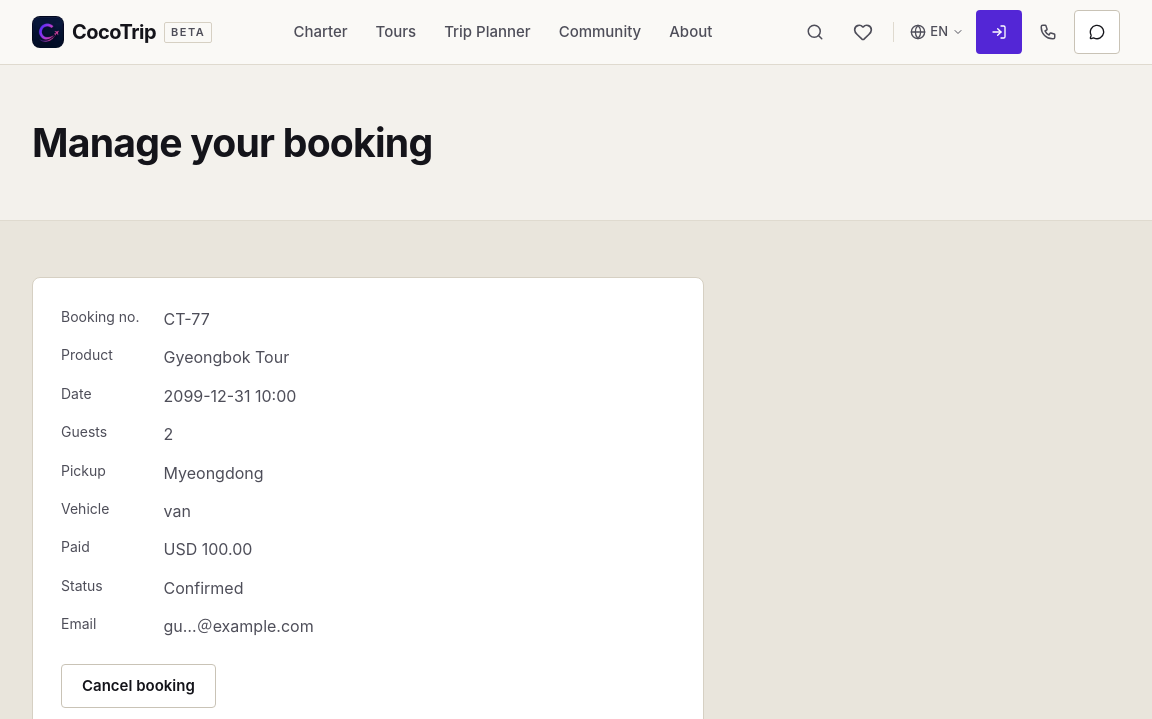
Test: /booking/manage › cancel 5xx → error screen; "check again" retries the lookup only (no second cancel)
Click the button "Cancel booking".
click(138, 686)  # box [61,664,216,708]
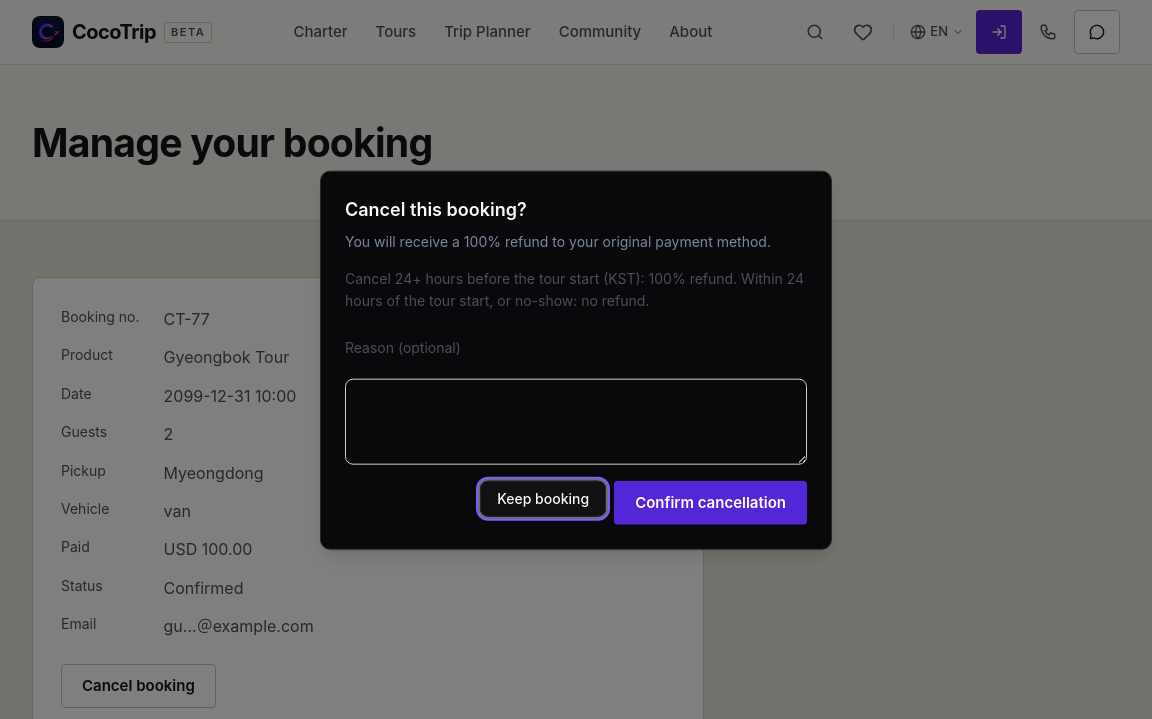
Click the button "Confirm cancellation".
click(711, 502)  # box [614,480,807,524]
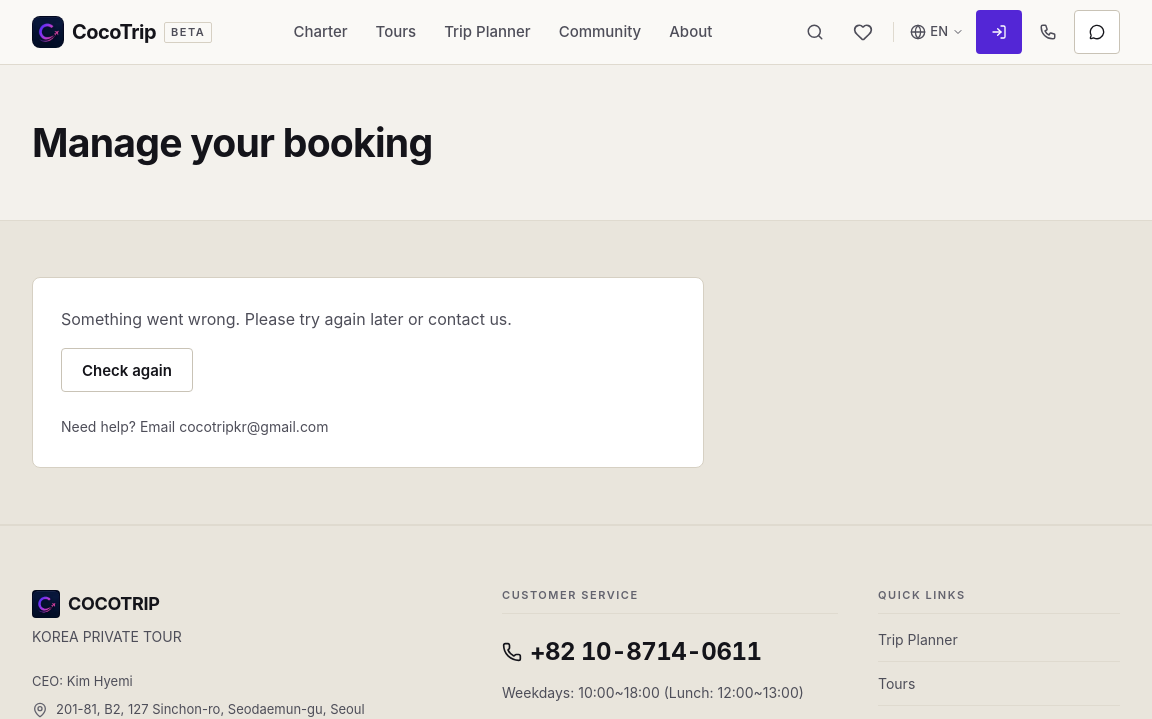
Click the button "Check again".
click(127, 370)  # box [61,348,193,392]
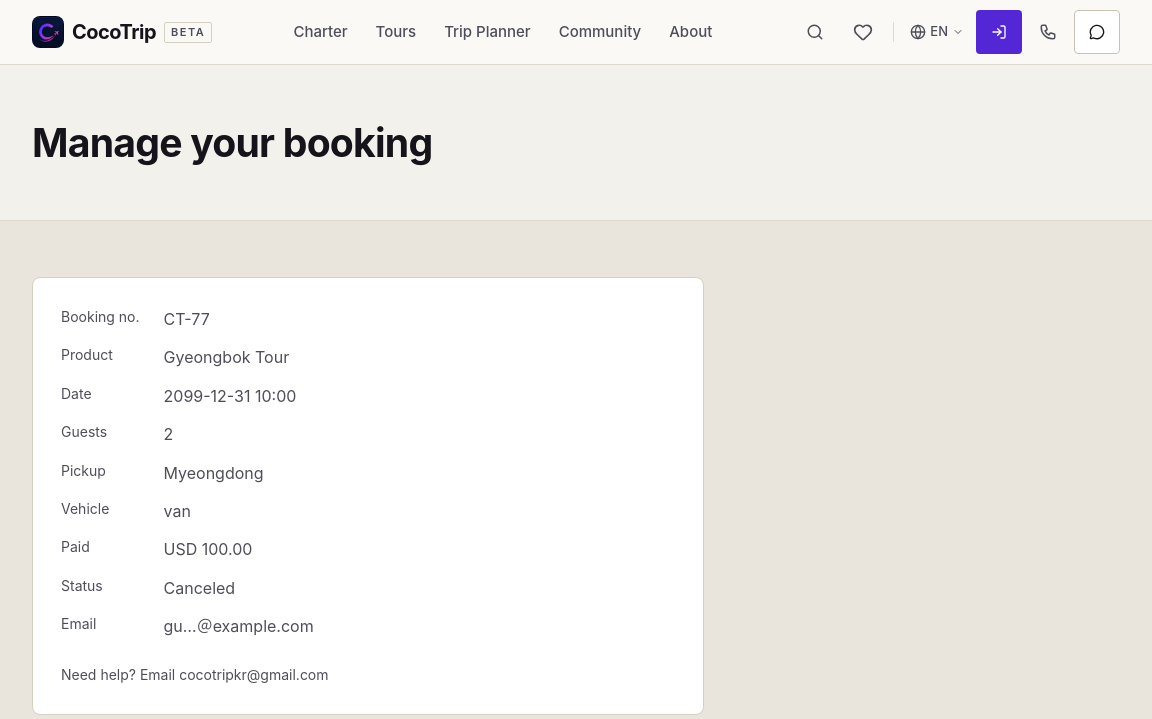
Expected: the text "Canceled" is shown, [164,578,235,598]
